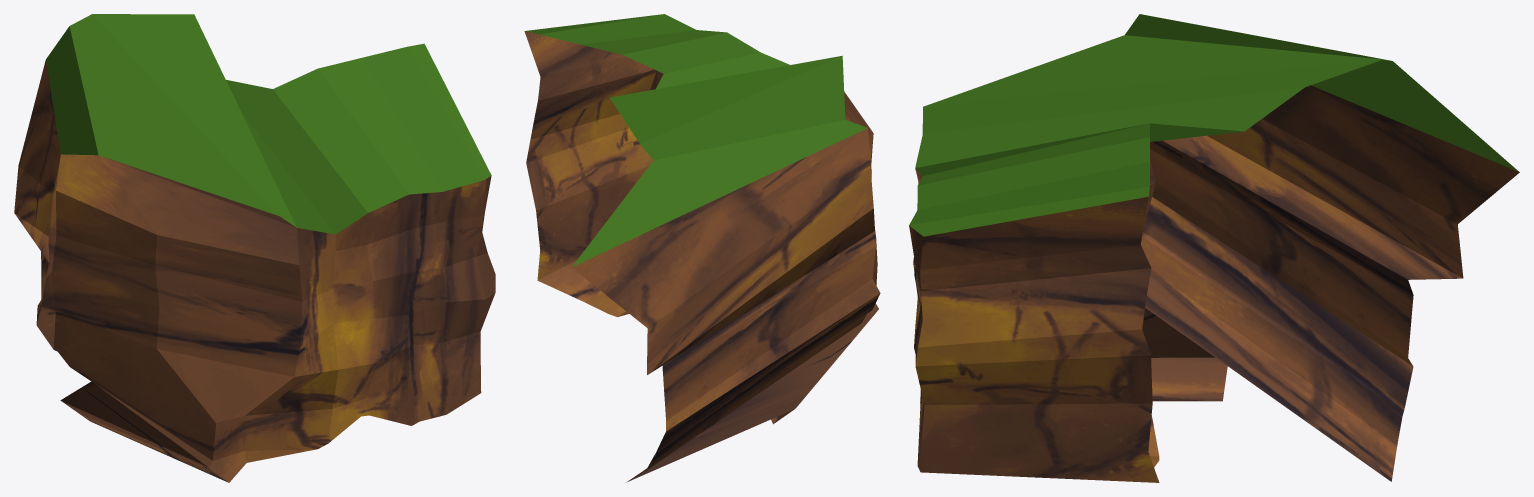
The model's file is sali83.obj.
The picture shows the model from 3 angles, left to right: view 1: azimuth 30°, elevation 25°; view 2: azimuth 150°, elevation 25°; view 3: azimuth 270°, elevation 25°; orthographic projection. The views are drawn at different scales.
Visible parts, largest first — view 1: Plane.049_Plane.053; view 2: Plane.049_Plane.053; view 3: Plane.049_Plane.053.
Part boxes in pixels (box(x1,y1,x2,y2)): Plane.049_Plane.053: box(14, 14, 495, 482); Plane.049_Plane.053: box(524, 14, 880, 482); Plane.049_Plane.053: box(909, 14, 1519, 482).
Bounding box in the file's own units: 115 × 106 × 139.
1 material, 1 textured.
